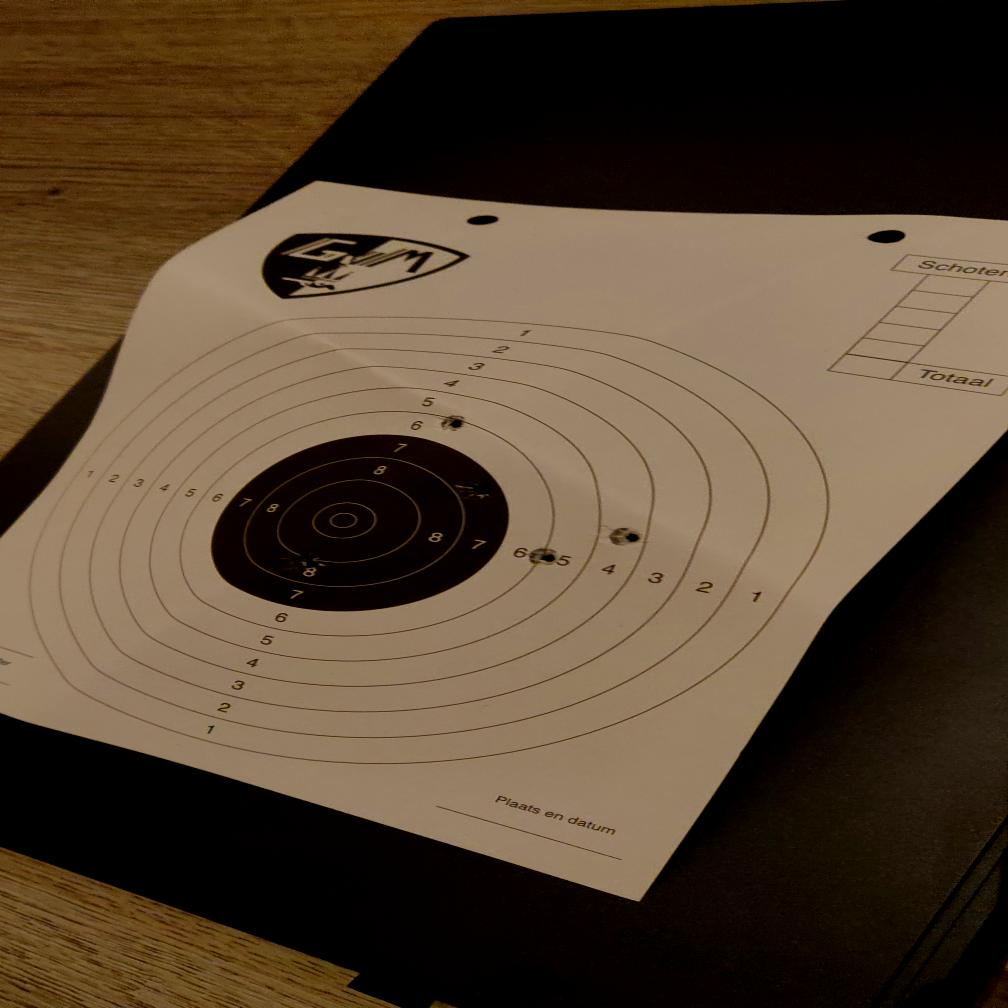4: (598, 526, 645, 548)
6: (524, 547, 563, 568), (435, 415, 469, 432)
7: (454, 480, 498, 500)
9: (282, 551, 327, 572)
Target: (23, 315, 835, 766)
black_contour: (211, 432, 512, 611)
